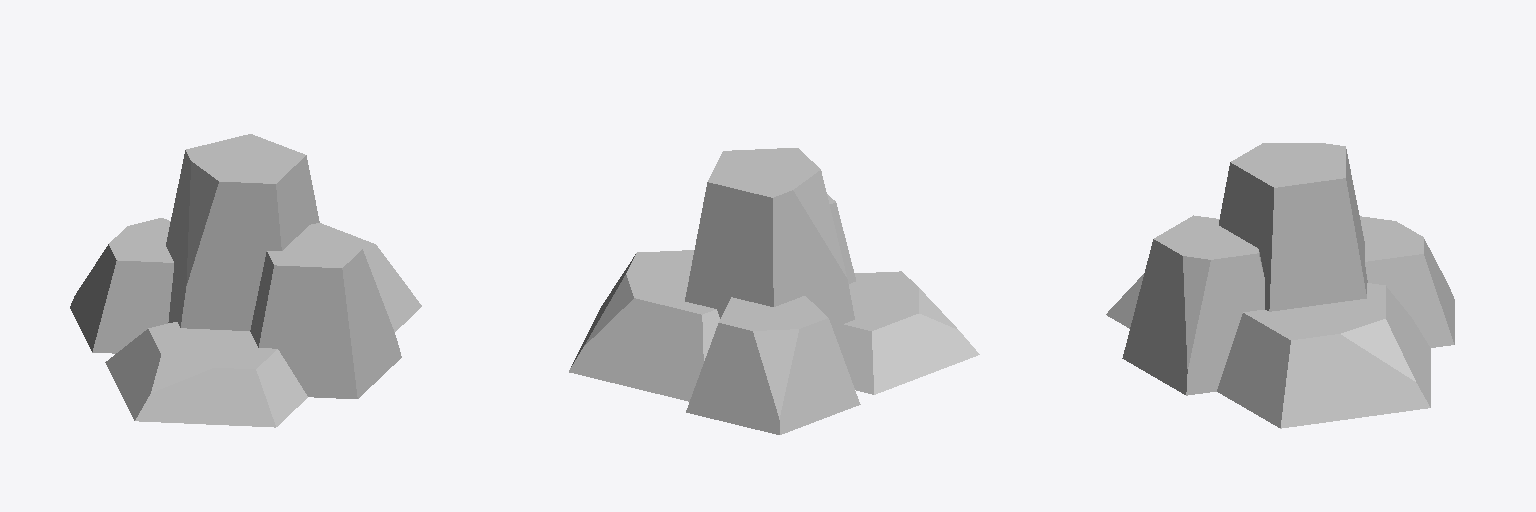
The model's file is rockB.obj.
3 renders of one model, left to right at view 1: azimuth 30°, elevation 25°; view 2: azimuth 150°, elevation 25°; view 3: azimuth 270°, elevation 25°, orthographic.
Parts seen in each view (by area): view 1: rockB; view 2: rockB; view 3: rockB.
Part boxes in pixels (left/top/right/bottom): rockB: left=70, top=134, right=421, bottom=427; rockB: left=569, top=148, right=979, bottom=434; rockB: left=1106, top=143, right=1454, bottom=428.
Bounding box in the file's own units: 0.7991 × 0.4186 × 0.7247.